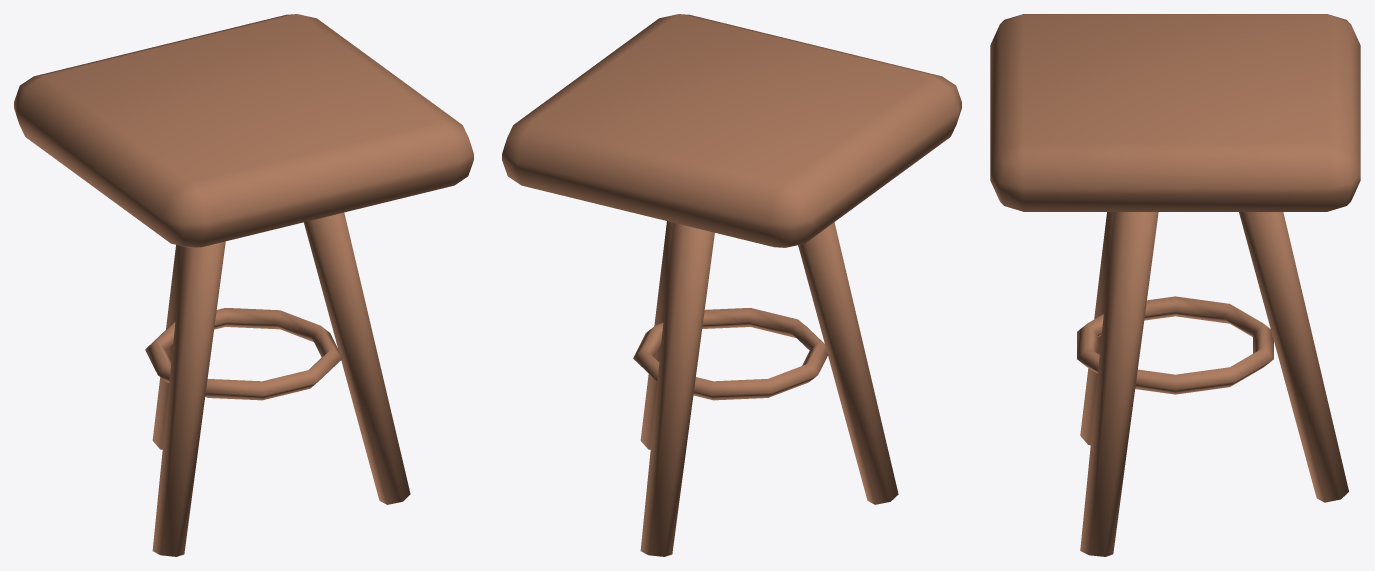
Rendered from stool.glb.
The picture shows the model from 3 angles, left to right: view 1: azimuth 30°, elevation 25°; view 2: azimuth 150°, elevation 25°; view 3: azimuth 270°, elevation 25°; orthographic projection. The views are drawn at different scales.
Visible parts, largest first — view 1: stool; view 2: stool; view 3: stool.
Part boxes in pixels (x1,y1,x2,y2): stool: (14,14,473,556); stool: (502,14,961,556); stool: (990,14,1360,556).
Size of what is drawn, in the model's own units: 0.4 by 0.5 by 0.4.
